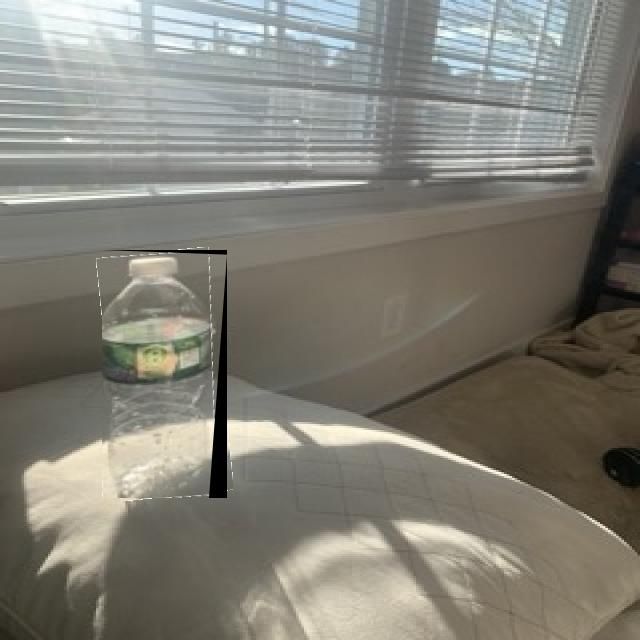water_bottle: (102, 250, 227, 498)
